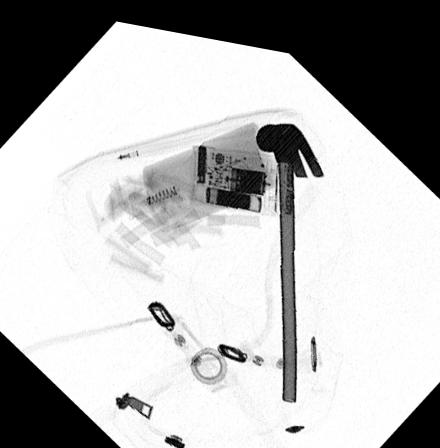Hammer: (255, 111, 326, 392)
